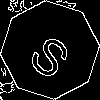S: (25, 25, 81, 82)
